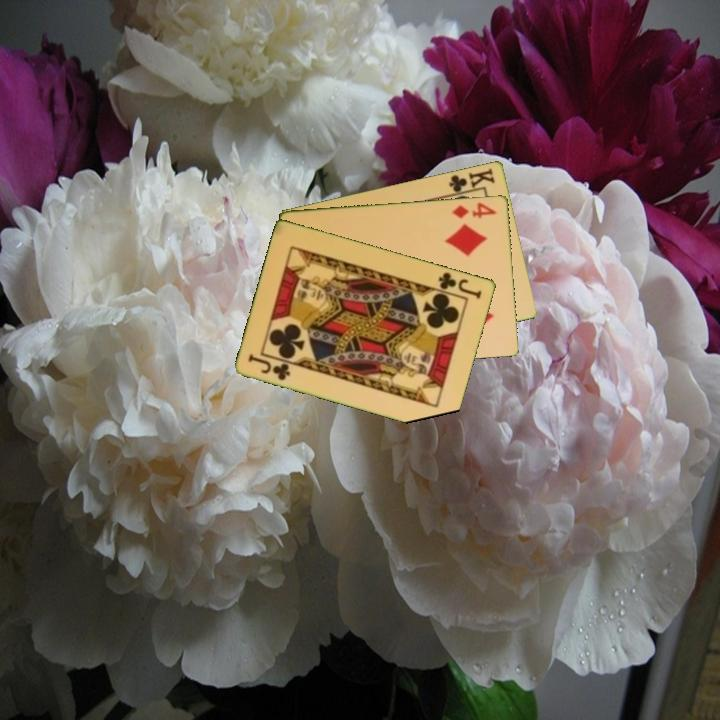4d: (449, 198, 500, 221)
Jc: (435, 268, 485, 301), (245, 350, 294, 383)
Kc: (445, 164, 498, 198)
